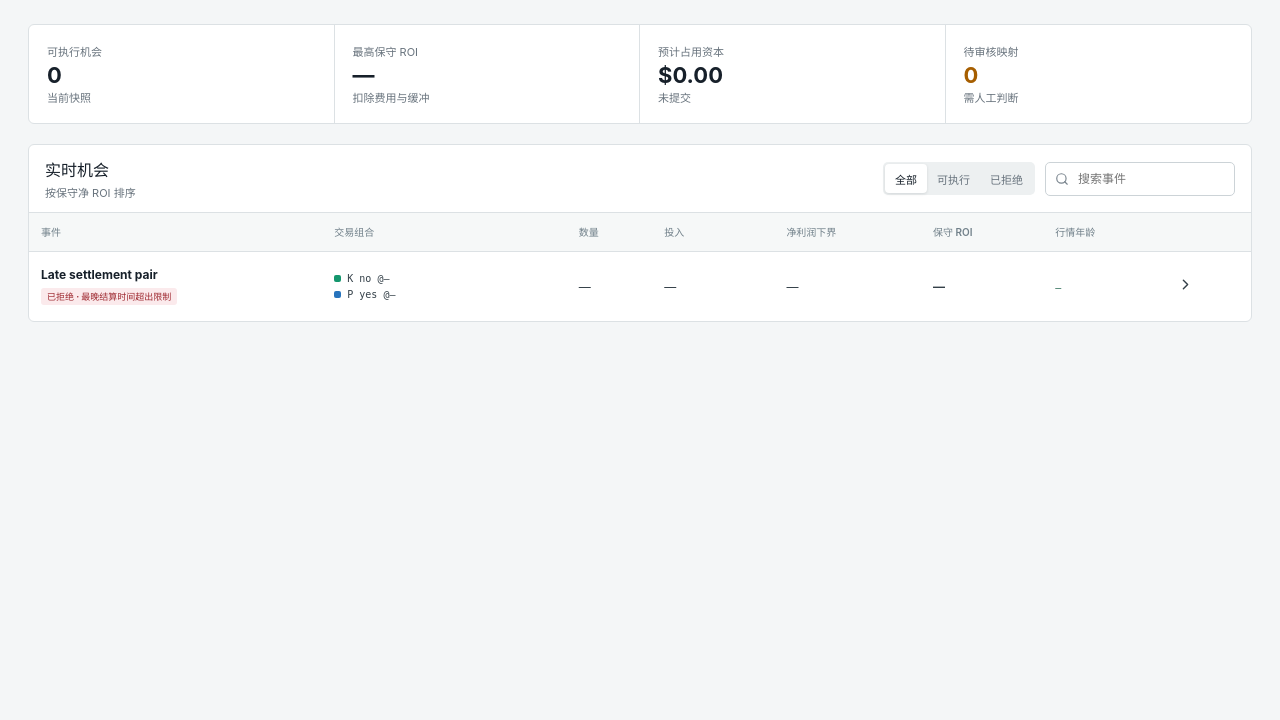
Test: renders unavailable metrics as dashes and shows the first localized rejection reason
Expected: the text "Late settlement pair" shows "已拒绝 · 最晚结算时间超出限制", [47, 291, 171, 302]
Expected: the text "Late settlement pair" shows "K no @—", [29, 251, 1251, 321]
Click the text "Late settlement pair" at (99, 275), box [41, 267, 158, 282]
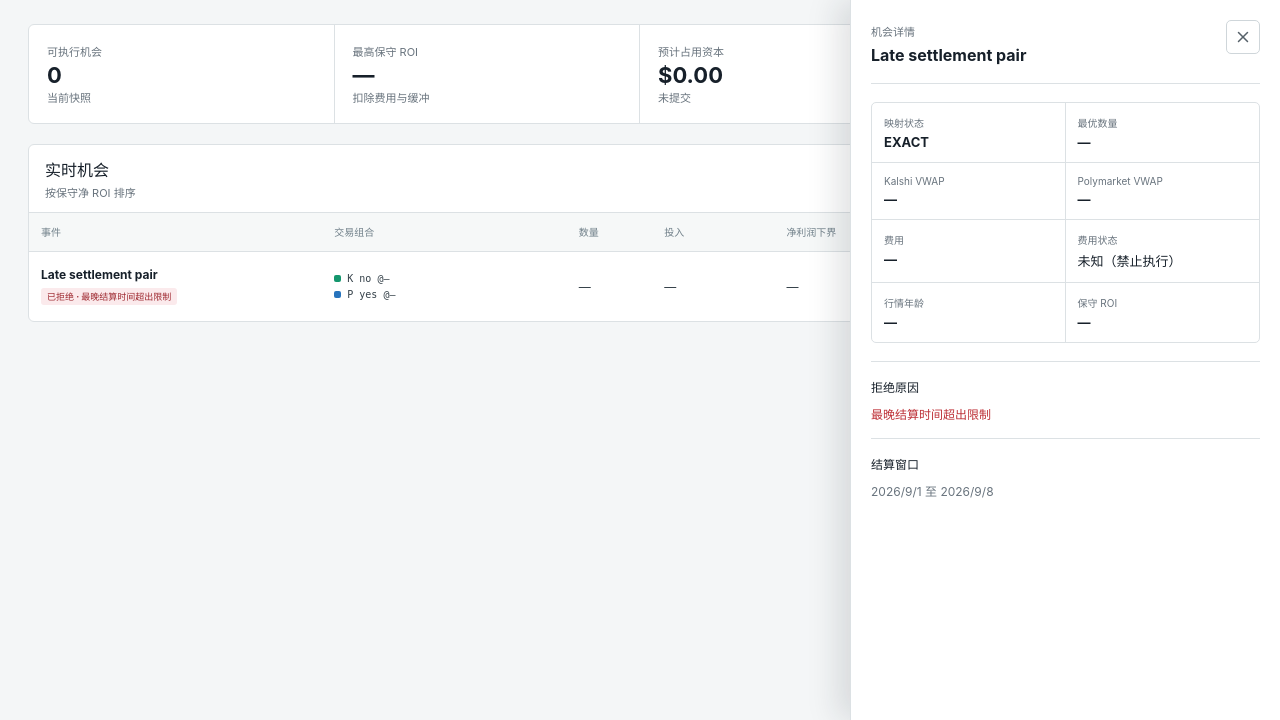
Now the text "—" is shown 6 times, box [1078, 134, 1090, 150]; [884, 191, 897, 207]; [1078, 191, 1090, 207]; [884, 251, 897, 267]; [884, 314, 897, 330]; [1078, 314, 1090, 330]
Now the text "最晚结算时间超出限制" is shown, box [871, 407, 991, 422]
